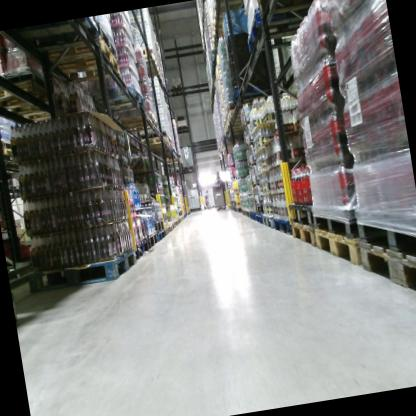pallet: (23, 247, 141, 298), (25, 30, 121, 91), (243, 0, 343, 55), (351, 199, 416, 281), (358, 233, 416, 313), (0, 18, 102, 62), (311, 220, 364, 279), (0, 72, 67, 117), (310, 200, 360, 249), (258, 0, 338, 23), (89, 81, 144, 114), (229, 77, 278, 110), (116, 108, 161, 135), (286, 197, 317, 235), (288, 218, 317, 253), (210, 8, 246, 31), (211, 0, 244, 17), (273, 212, 293, 238), (139, 136, 171, 151), (133, 236, 152, 261), (225, 104, 251, 121), (0, 142, 20, 164), (210, 29, 229, 50), (139, 50, 157, 68), (262, 214, 278, 233), (143, 230, 159, 249), (252, 201, 268, 216), (169, 82, 183, 97), (152, 218, 166, 233), (254, 211, 264, 226), (181, 164, 195, 174), (156, 229, 167, 241), (161, 223, 171, 236), (166, 221, 176, 233), (177, 122, 188, 132), (174, 216, 182, 229), (171, 218, 179, 229), (249, 210, 256, 222), (244, 207, 250, 218), (177, 209, 183, 217), (180, 214, 185, 220), (178, 215, 182, 221)
pallet_truck: (206, 174, 232, 216)
